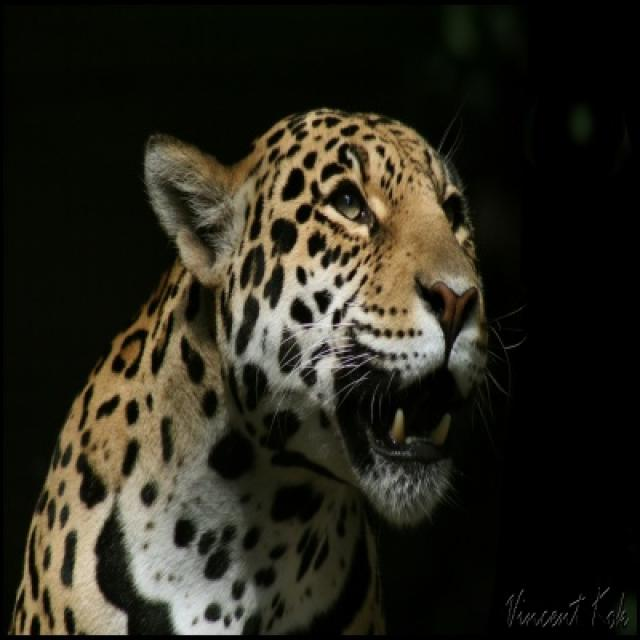Jaguar: (8, 110, 504, 638)
